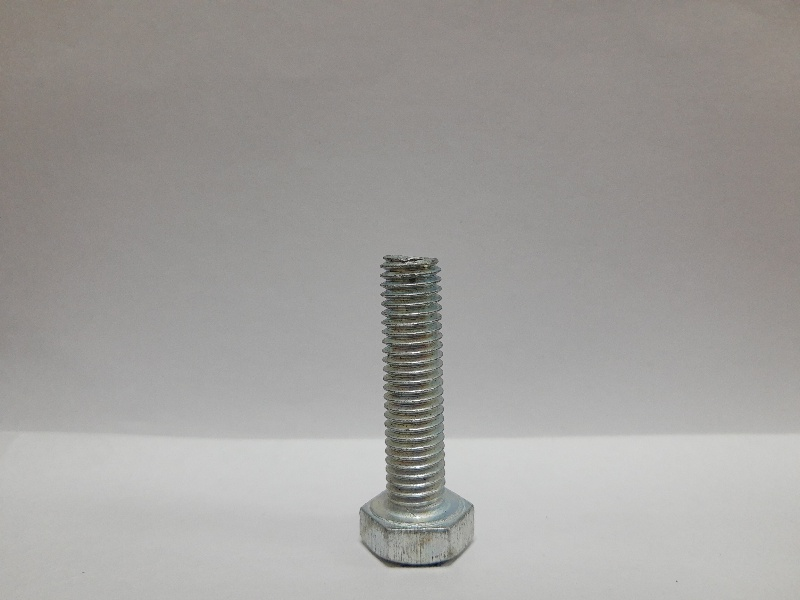pf: (354, 254, 479, 567)
